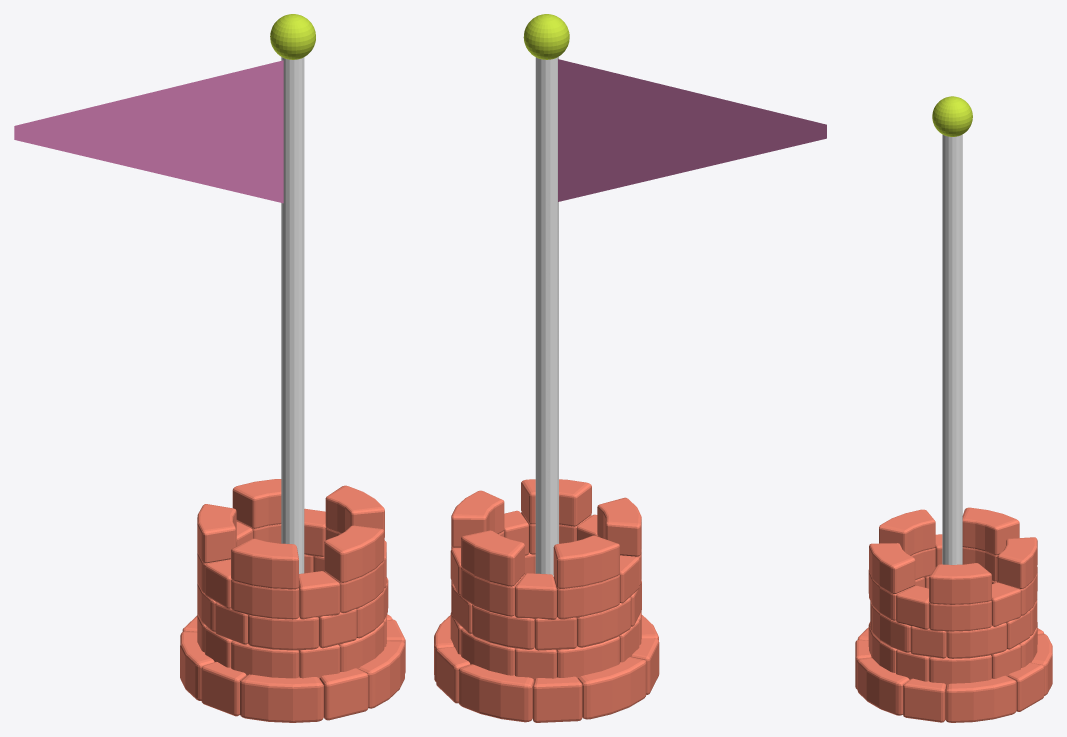
File: meta.fbx
The picture shows the model from 3 angles, left to right: view 1: azimuth 30°, elevation 25°; view 2: azimuth 150°, elevation 25°; view 3: azimuth 270°, elevation 25°; orthographic projection. The views are drawn at different scales.
Parts seen in each view (by area): view 1: Meta; view 2: Meta; view 3: Meta.
Part boxes in pixels (bbox=[...]): Meta: bbox=[14, 14, 405, 722]; Meta: bbox=[434, 14, 826, 722]; Meta: bbox=[855, 96, 1052, 722].
Size of the model in its own units: 3.8 by 6.39 by 1.95.
